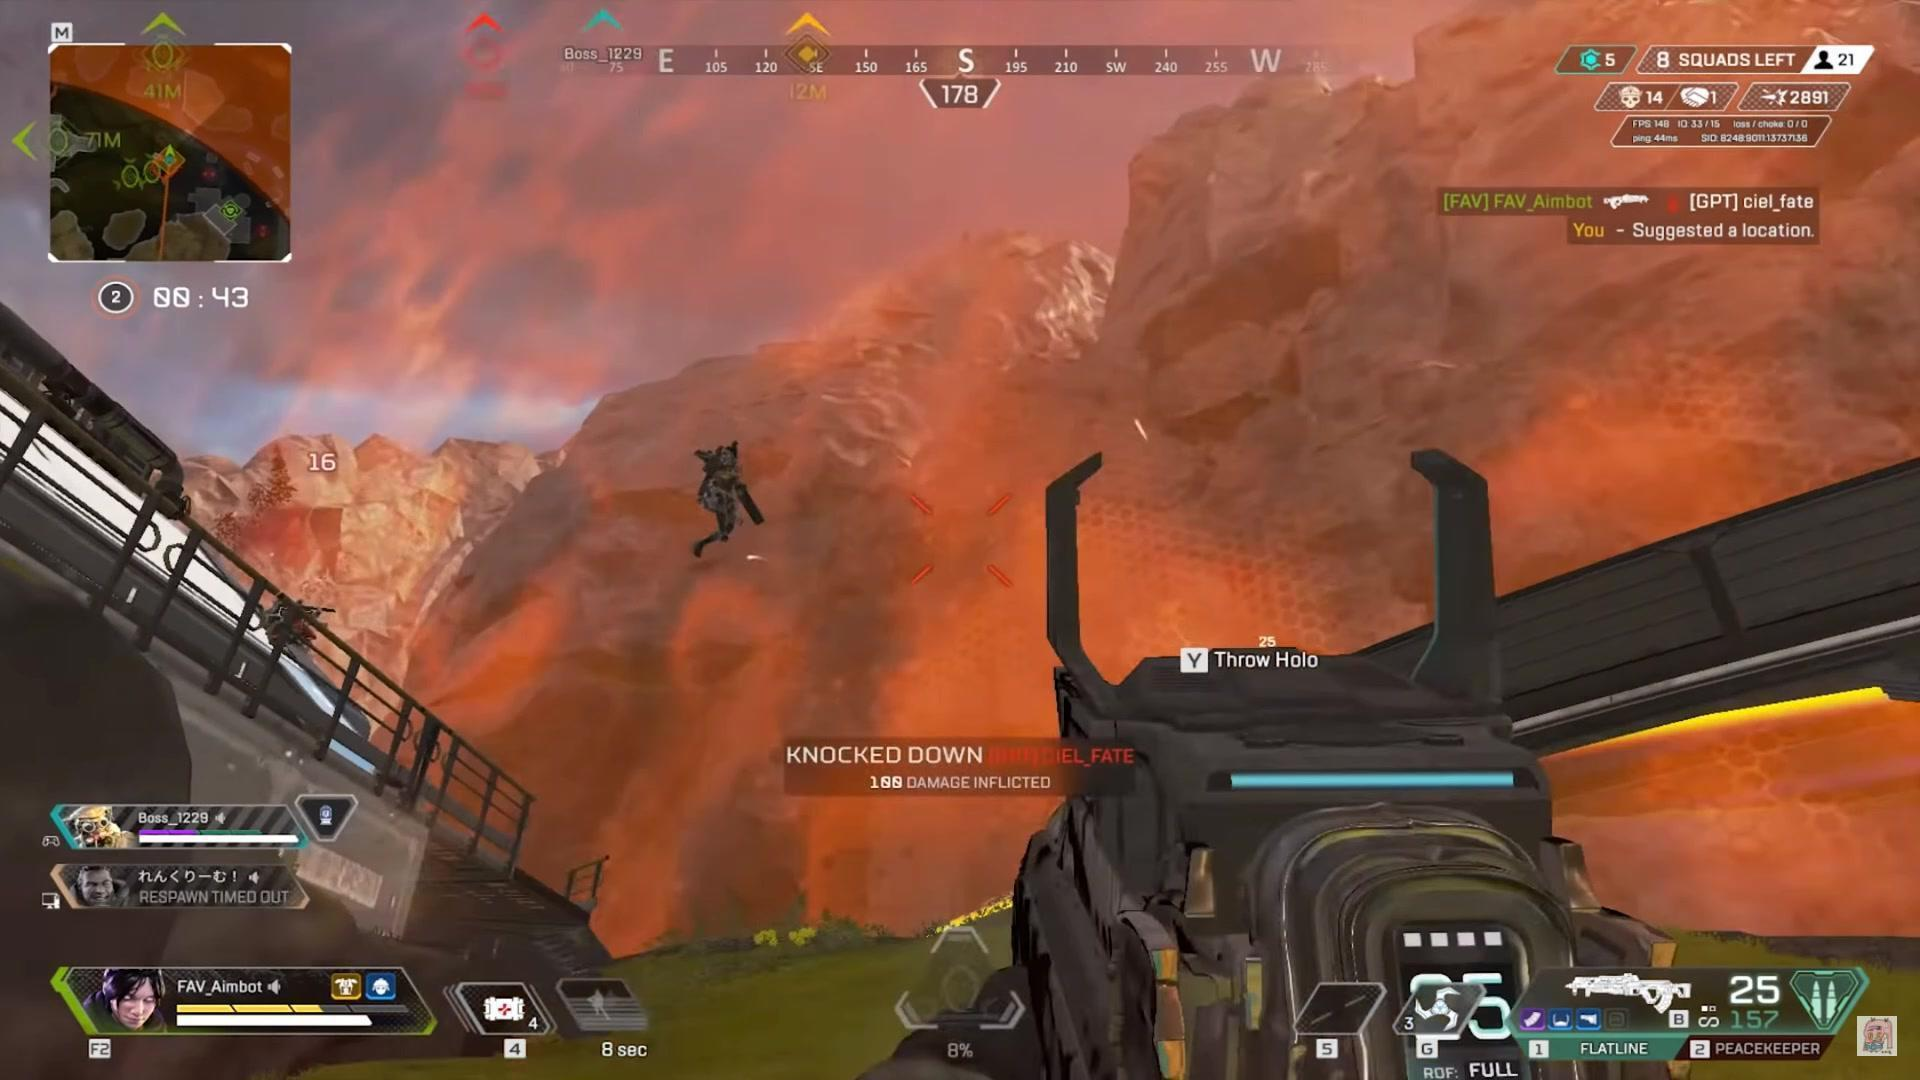avatar: (688, 436, 743, 562)
